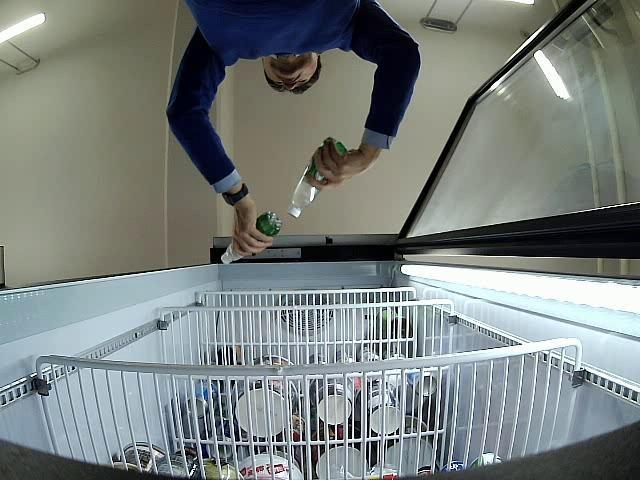18_trevi: (287, 138, 348, 218), (222, 210, 280, 265)
